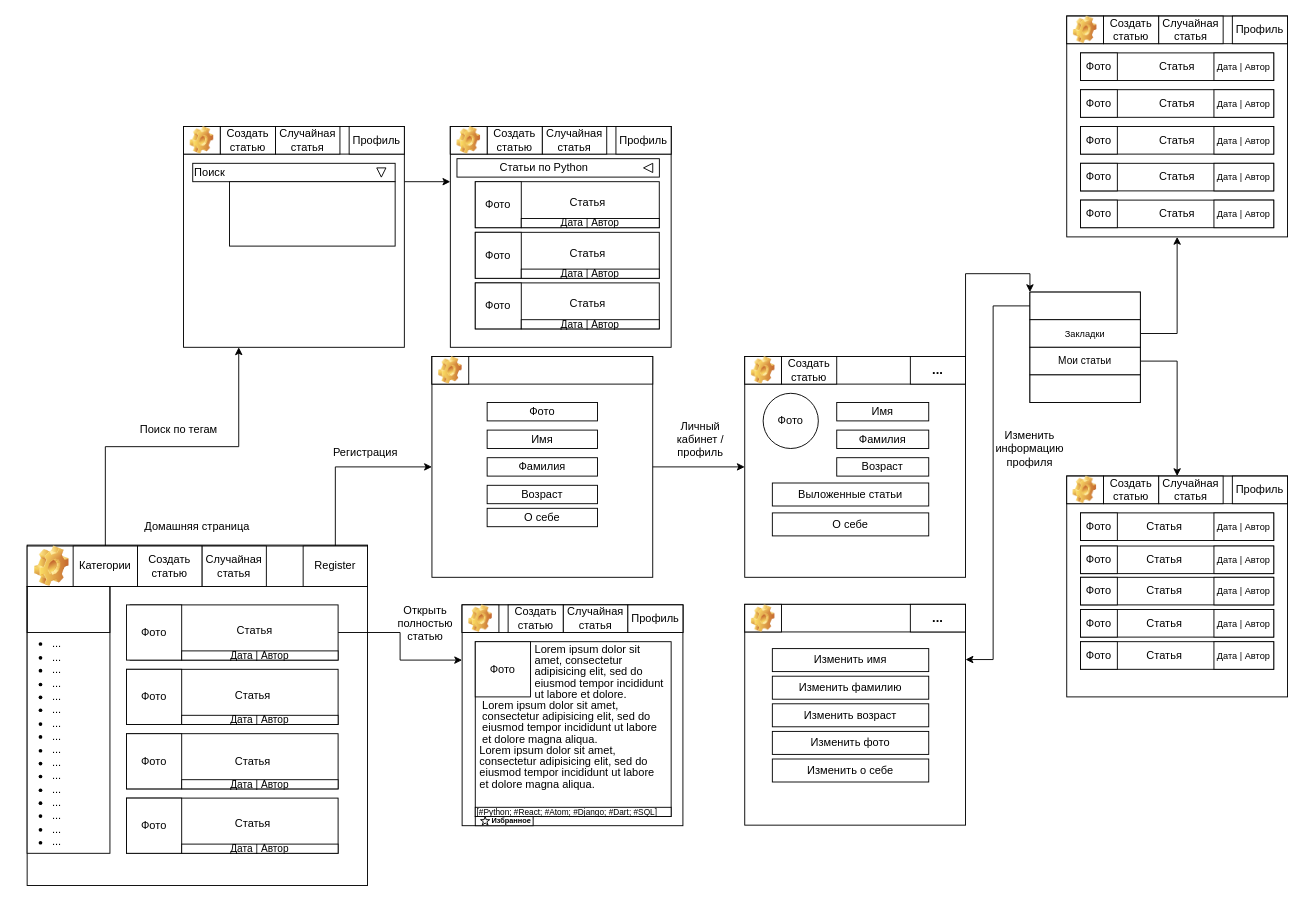
Some shapes in this 1304 by 902 pixel diagram are drawn without their labels. The shapes that lost their labels are listed below. From the top down, each one's centre as x and y in pixels, then its label:
At [312,213]: "Python Dart React Django SQL".
At [1084,305]: "Изменить информацию".
At [1084,388]: "Logout".
At [68,609]: "Популярные статьи".
